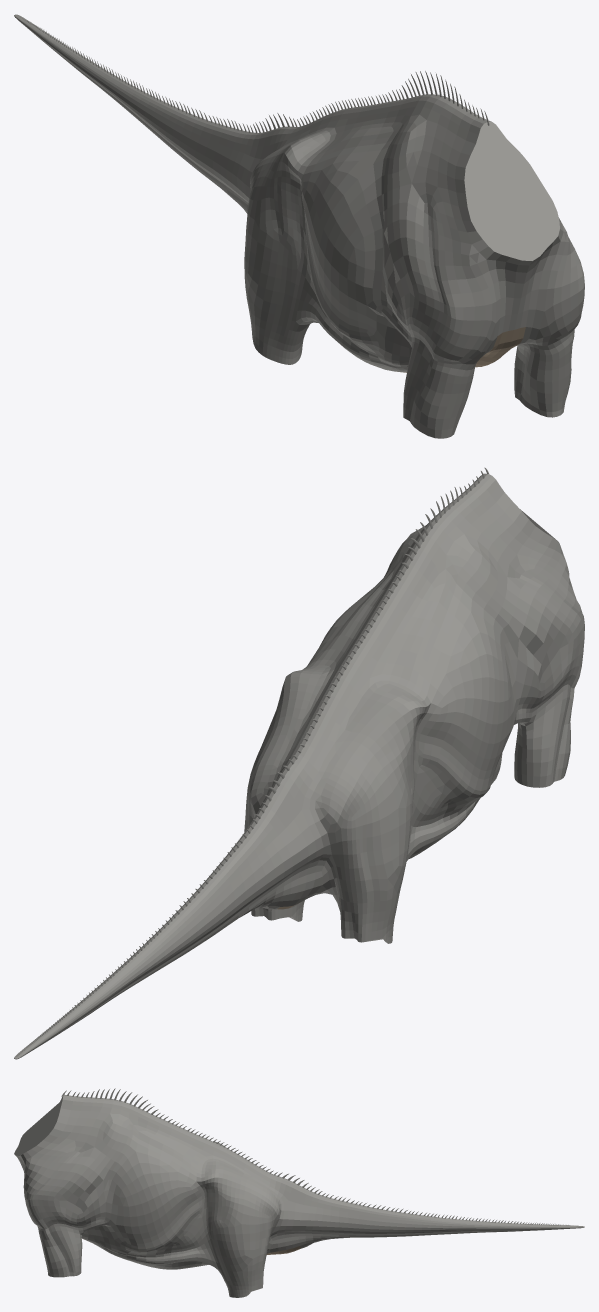
Rendered from Cuerpo.obj.
3 views of the same model, one above another, from view 1: azimuth 30°, elevation 25°; view 2: azimuth 150°, elevation 25°; view 3: azimuth 270°, elevation 25° (orthographic). The views are drawn at different scales.
Parts seen in each view (by area): view 1: polySurface173 polySurface168 polySurface163 polySurface160 poly; view 2: polySurface173 polySurface168 polySurface163 polySurface160 poly; view 3: polySurface173 polySurface168 polySurface163 polySurface160 poly.
Boxes of the visible parts, <box> form: polySurface173 polySurface168 polySurface163 polySurface160 poly: <box>14,14,584,438</box>; polySurface173 polySurface168 polySurface163 polySurface160 poly: <box>14,467,584,1059</box>; polySurface173 polySurface168 polySurface163 polySurface160 poly: <box>14,1088,584,1297</box>.
Size of the model in its own units: 2.45 by 4.96 by 13.13.
3 materials, 3 textured.
